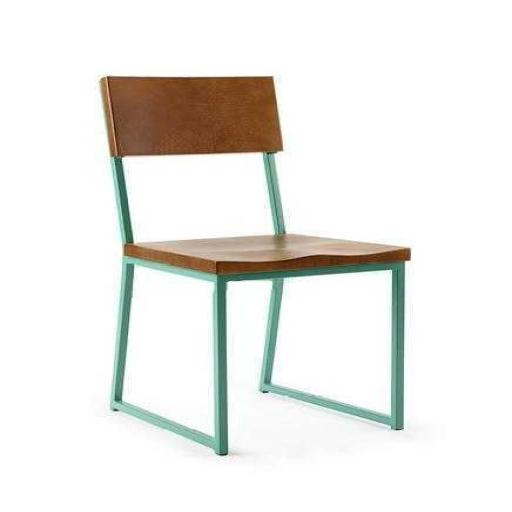chair: (91, 66, 423, 460)
